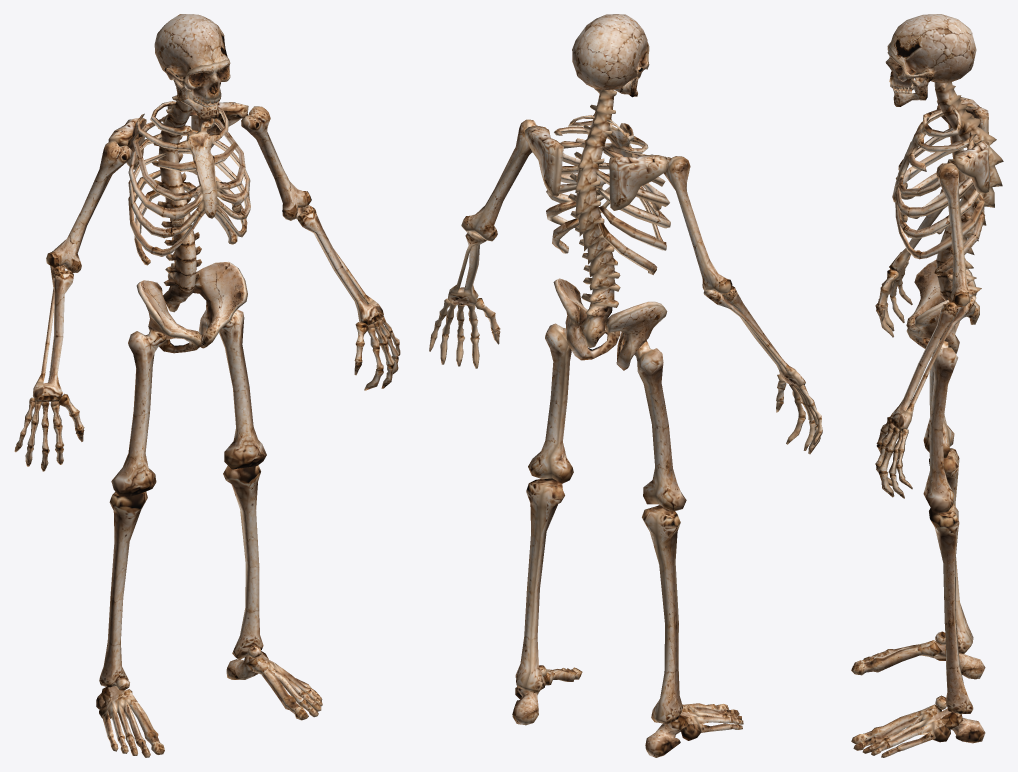
The model's file is skeleton.fbx.
The picture shows the model from 3 angles, left to right: view 1: azimuth 30°, elevation 25°; view 2: azimuth 150°, elevation 25°; view 3: azimuth 270°, elevation 25°; orthographic projection. The views are drawn at different scales.
Visible parts, largest first — view 1: Body; view 2: Body; view 3: Body.
Boxes of the visible parts, <box> form: Body: <box>14,14,400,757</box>; Body: <box>429,14,822,757</box>; Body: <box>851,14,1003,757</box>.
Bounding box in the file's own units: 54.78 × 94.21 × 18.82.
